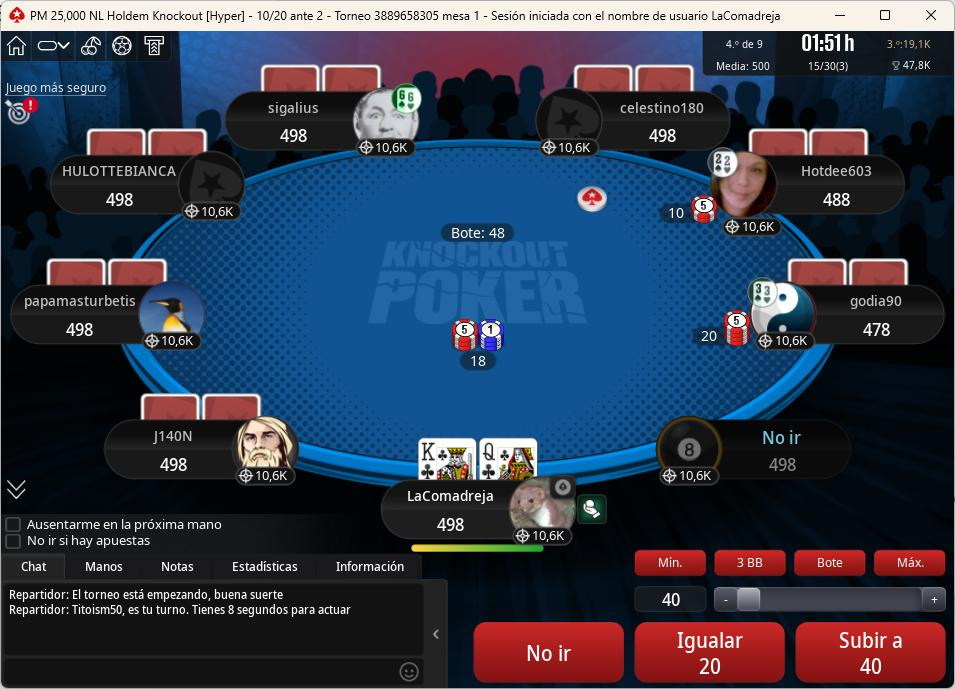ButtonCall: (629, 614, 784, 685)
ButtonFold: (472, 620, 631, 685)
ButtonMaxRaise: (871, 548, 951, 578)
ButtonMinRaise: (633, 547, 711, 580)
ButtonPotRaise: (791, 547, 870, 577)
ButtonRaise: (794, 616, 949, 684)
Dealer: (572, 185, 608, 213)
HiddenCards: (139, 393, 269, 423), (83, 132, 211, 160), (261, 67, 387, 95), (575, 67, 701, 95), (47, 258, 172, 286), (786, 259, 914, 286), (748, 131, 870, 159)
Player: (746, 284, 950, 352), (107, 420, 309, 488), (225, 91, 425, 159), (712, 150, 911, 218), (7, 283, 208, 350), (657, 421, 857, 487), (49, 151, 247, 217), (544, 91, 735, 158)
PlayerBet: (689, 309, 757, 351), (655, 194, 720, 227)
PlayerChips: (763, 454, 807, 476), (644, 128, 689, 148), (858, 322, 900, 342), (152, 455, 193, 475), (60, 323, 102, 342), (817, 191, 859, 210), (99, 192, 140, 211), (273, 129, 316, 147)
Pot: (441, 216, 517, 244)
PrincipalCards: (412, 438, 543, 485)
PrincipalCards1: (416, 436, 477, 481)
PrincipalCards2: (477, 435, 540, 483)
PrincipalPlayer: (385, 475, 587, 551)
PrincipalPlayerChips: (431, 516, 474, 537)
SmallBigBlind: (247, 7, 335, 26)
TablePot: (435, 316, 532, 380)
